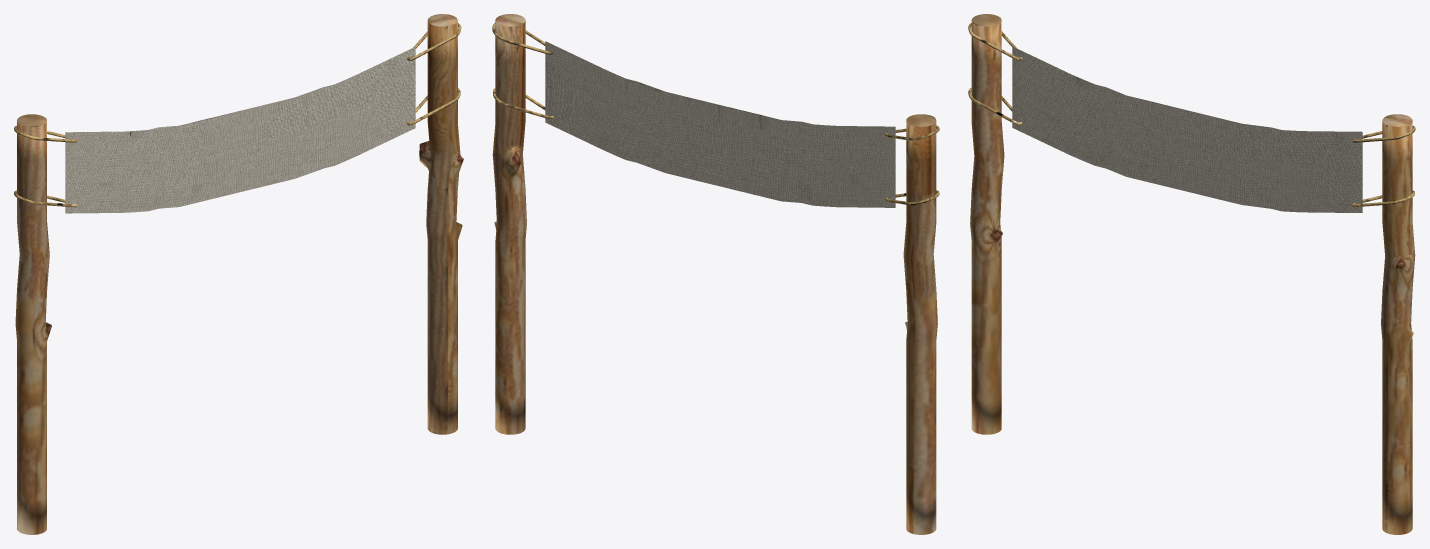
Rendered from Banner_Sniper.fbx.
3 views of the same model, side by side, from view 1: azimuth 30°, elevation 25°; view 2: azimuth 150°, elevation 25°; view 3: azimuth 330°, elevation 25° (orthographic).
Visible parts, largest first — view 1: Cylinder; view 2: Cylinder; view 3: Cylinder.
Boxes of the visible parts, x1,y1,x2,y2 form: Cylinder: [14, 14, 463, 534]; Cylinder: [492, 14, 939, 534]; Cylinder: [968, 14, 1415, 534].
Size of the model in its own units: 679 by 596 by 56.05.
